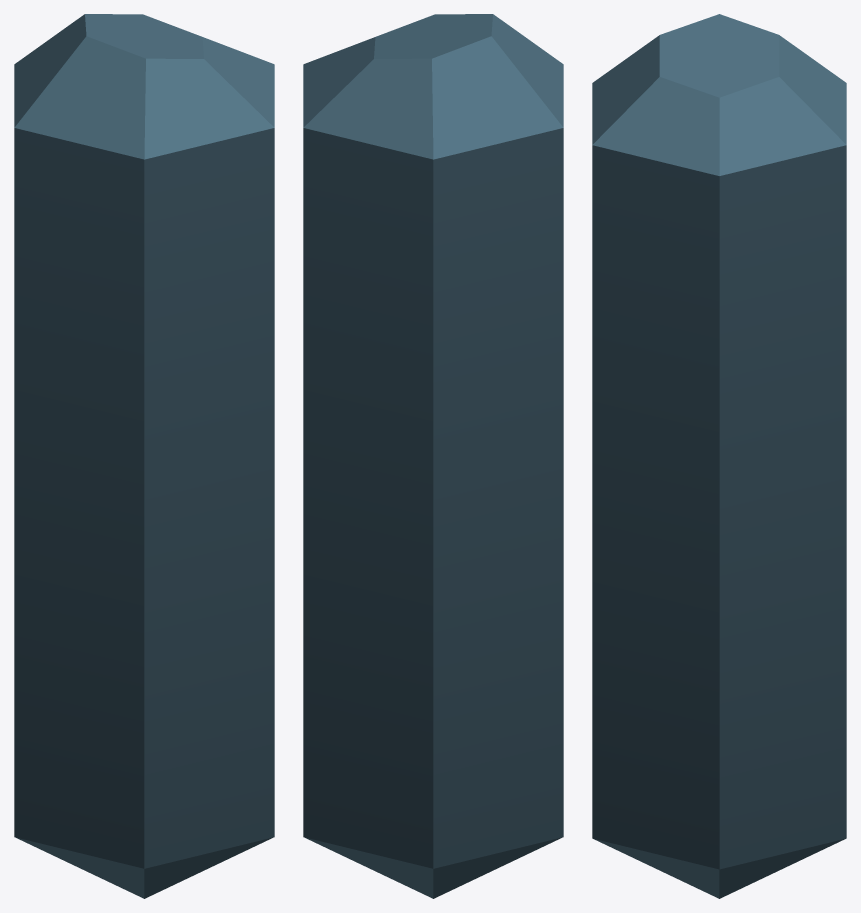
Rendered from geology-crystals-calcitecrystal_v11.fbx.
The picture shows the model from 3 angles, left to right: view 1: azimuth 30°, elevation 25°; view 2: azimuth 150°, elevation 25°; view 3: azimuth 270°, elevation 25°; orthographic projection. The views are drawn at different scales.
Parts seen in each view (by area): view 1: CalciteCrystal_v11; view 2: CalciteCrystal_v11; view 3: CalciteCrystal_v11.
Part boxes in pixels (x1=…): CalciteCrystal_v11: x1=14, y1=14, x2=274, y2=898; CalciteCrystal_v11: x1=303, y1=14, x2=563, y2=898; CalciteCrystal_v11: x1=592, y1=14, x2=846, y2=898.
Size of the model in its own units: 1.39 by 4.48 by 1.21.
